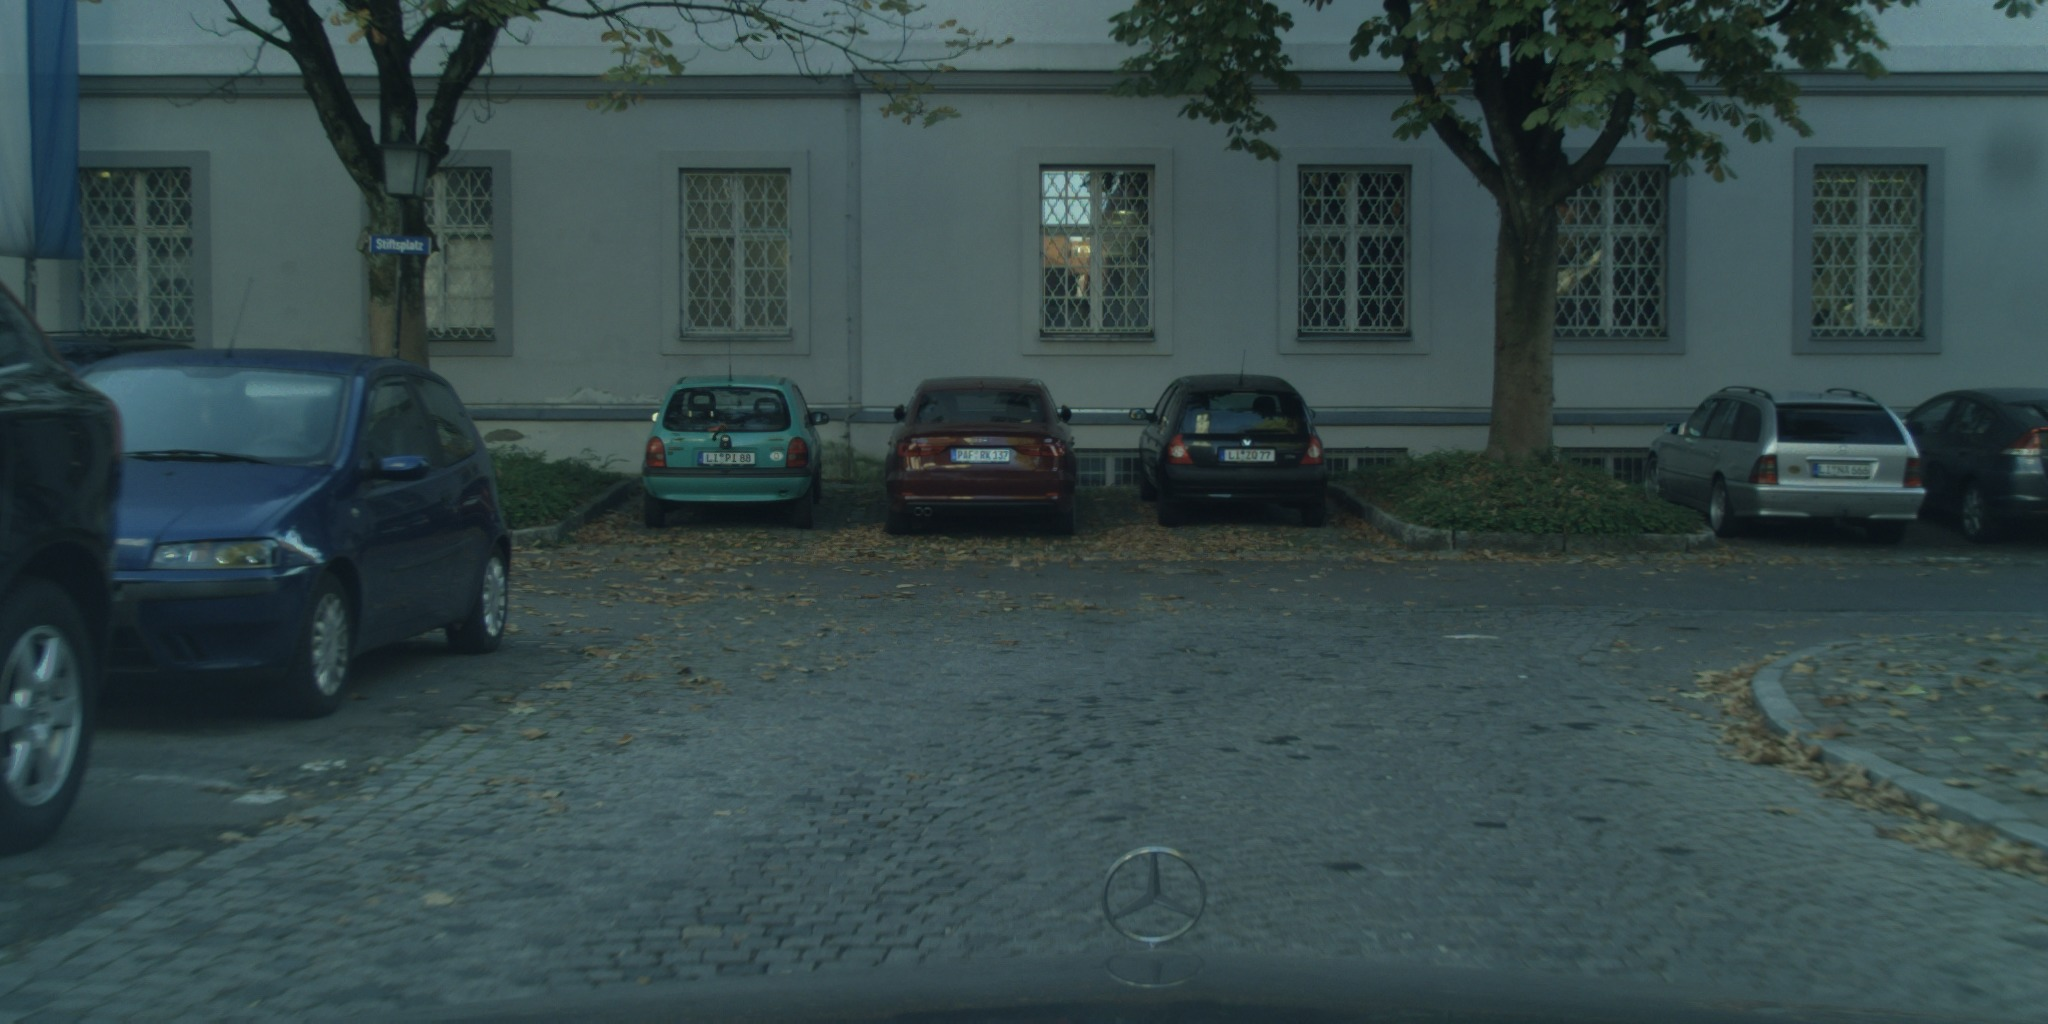car: (71, 282, 512, 718), (0, 276, 125, 857), (1644, 385, 1923, 543), (1130, 350, 1328, 529), (883, 375, 1076, 537), (641, 364, 829, 529), (1903, 387, 2048, 543), (37, 330, 199, 391)
